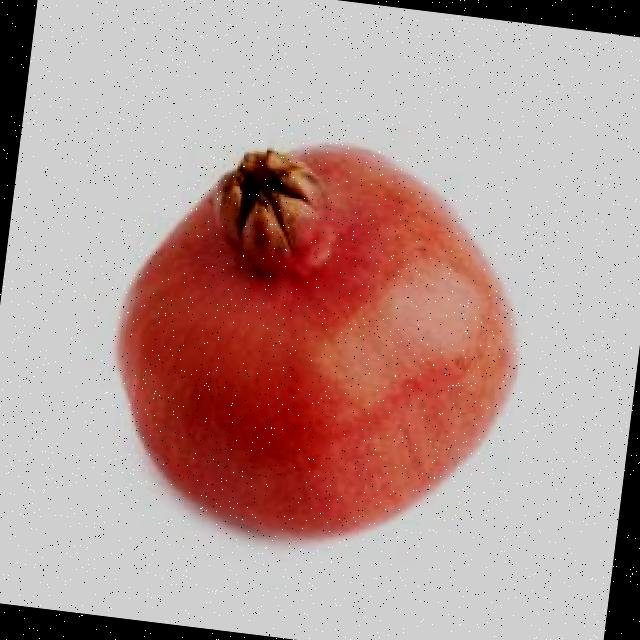Pomegranate: (88, 114, 543, 565)
